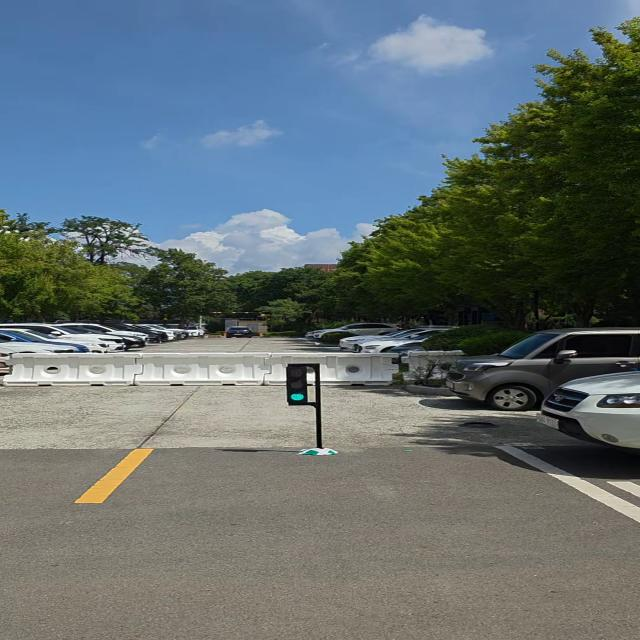green: (283, 364, 310, 408)
